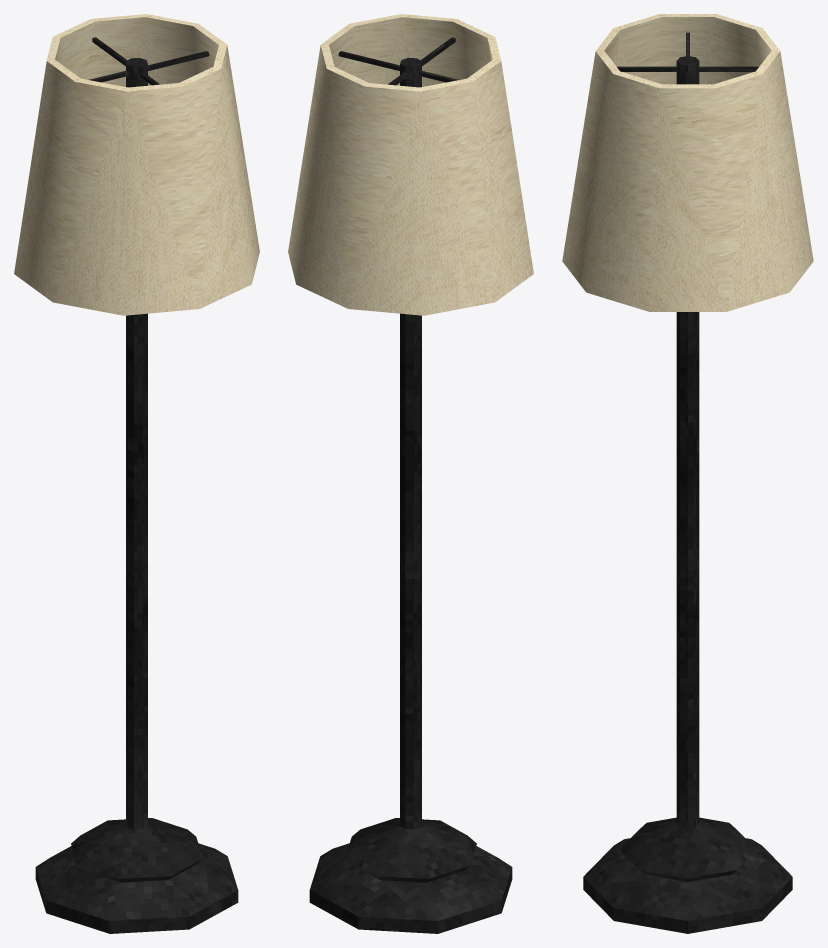
File: lamp.glb
3 views of the same model, side by side, from view 1: azimuth 30°, elevation 25°; view 2: azimuth 150°, elevation 25°; view 3: azimuth 270°, elevation 25° (orthographic).
Parts seen in each view (by area): view 1: Light_Stand1.001, Light_Stand1; view 2: Light_Stand1.001, Light_Stand1; view 3: Light_Stand1.001, Light_Stand1.
Boxes of the visible parts, box(x1,y1,x2,y2) form: Light_Stand1.001: box(14, 14, 259, 315); Light_Stand1: box(35, 37, 238, 933); Light_Stand1.001: box(288, 14, 533, 315); Light_Stand1: box(309, 37, 512, 933); Light_Stand1.001: box(562, 14, 813, 311); Light_Stand1: box(583, 32, 792, 933).
Size of the model in its own units: 0.7734 by 2.99 by 0.8132.
2 materials, 2 textured.
